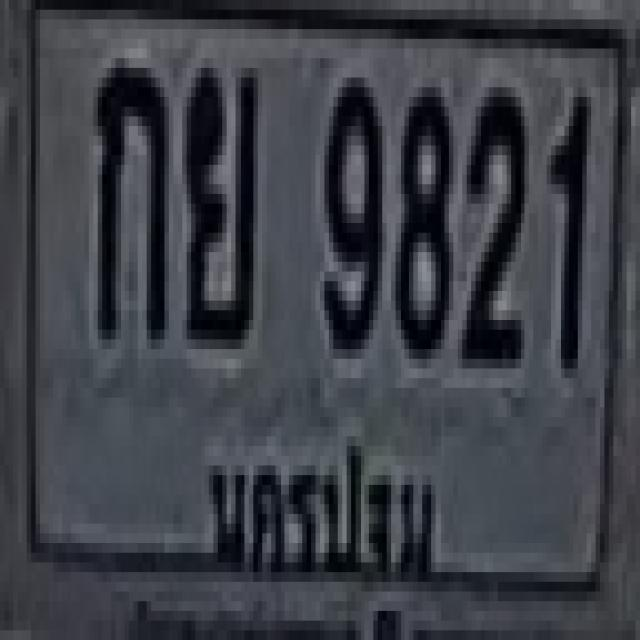1: (546, 87, 586, 359)
2: (458, 78, 520, 358)
8: (391, 78, 449, 349)
9: (320, 68, 378, 339)
A01: (94, 58, 164, 330)
A34: (182, 58, 254, 340)
NPT: (202, 435, 444, 591)
